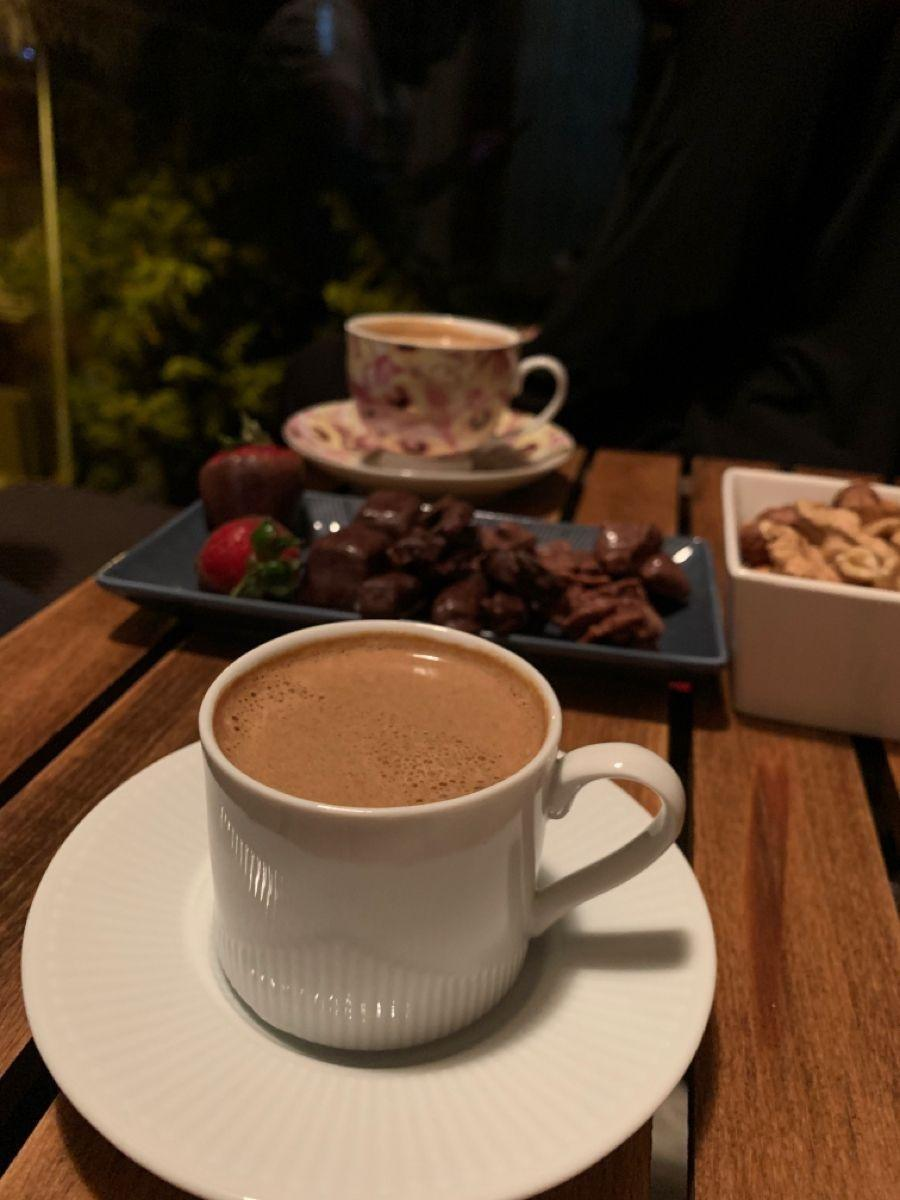cup-handle: (194, 617, 687, 1058), (345, 309, 569, 459)
